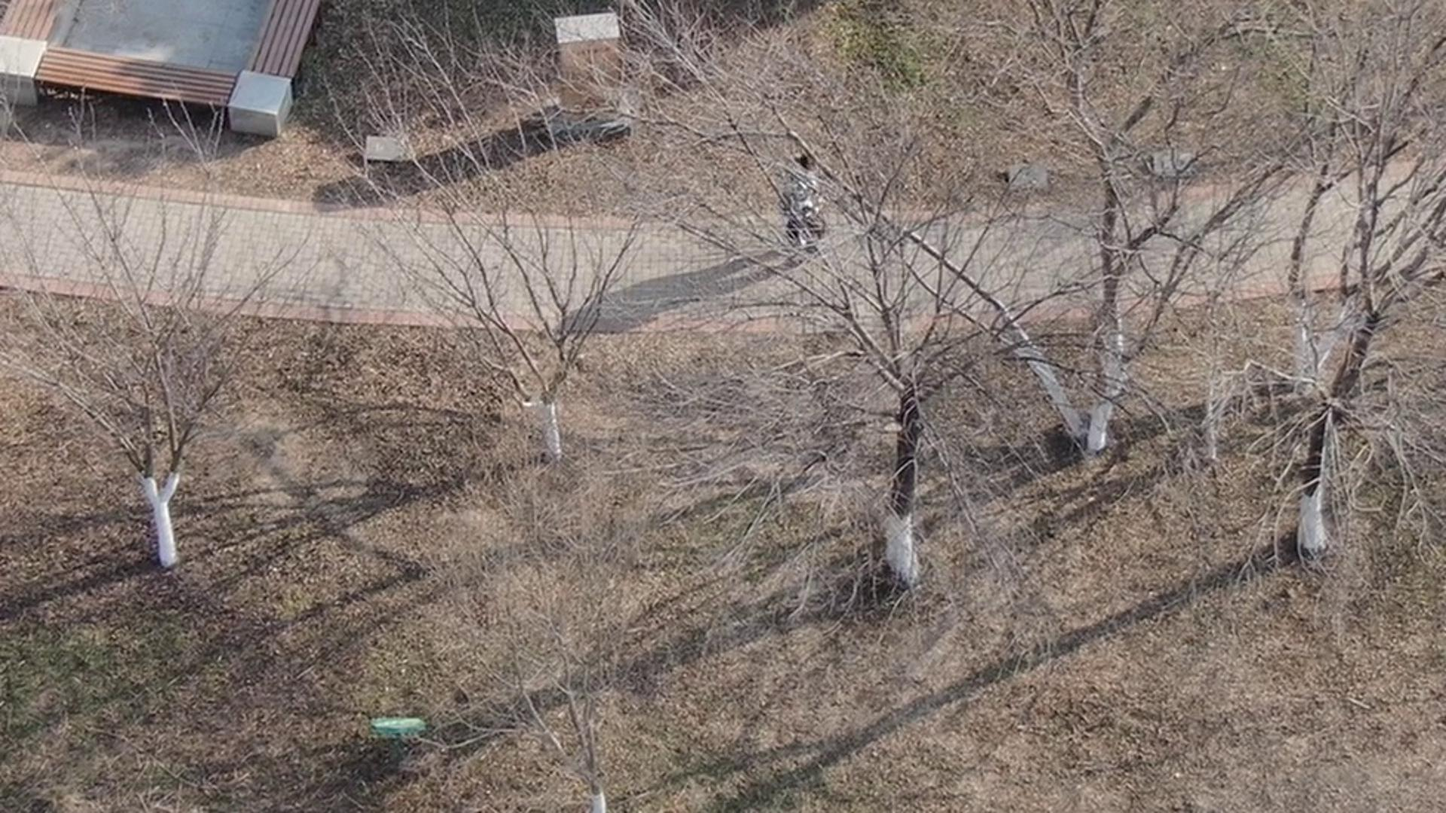human: (779, 169, 843, 279)
